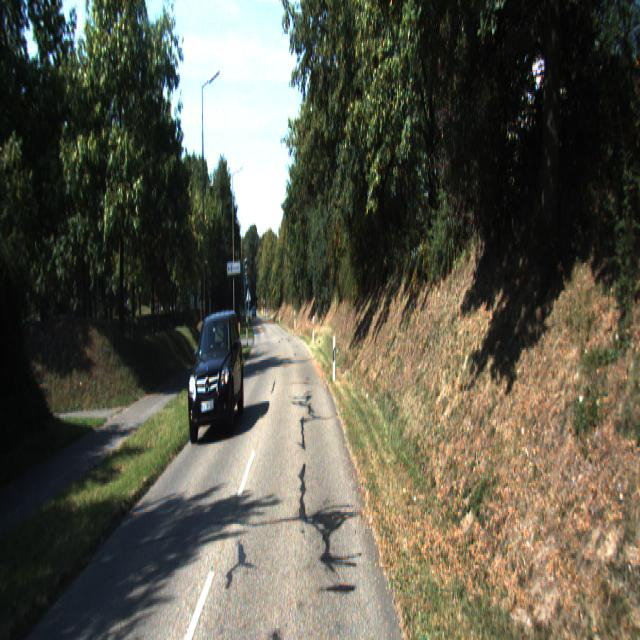Car: (187, 308, 245, 446)
